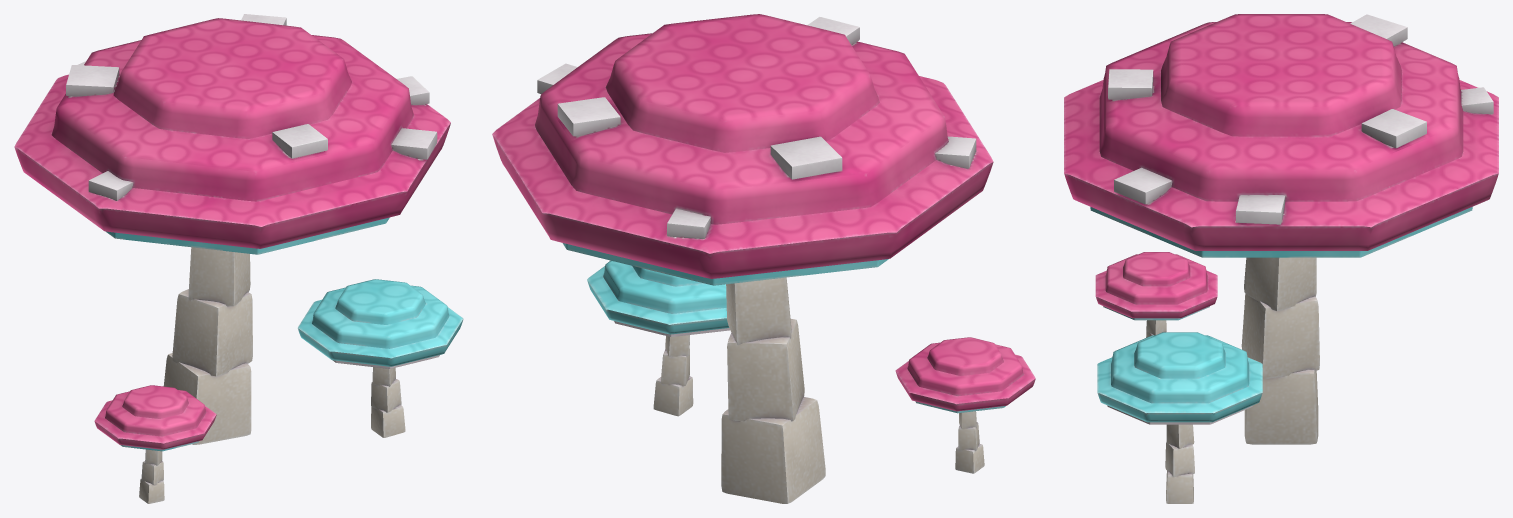
Rendered from ChampignonGeant.fbx.
The picture shows the model from 3 angles, left to right: view 1: azimuth 30°, elevation 25°; view 2: azimuth 150°, elevation 25°; view 3: azimuth 270°, elevation 25°; orthographic projection. The views are drawn at different scales.
Visible parts, largest first — view 1: ChampignonGeant; view 2: ChampignonGeant; view 3: ChampignonGeant.
Part boxes in pixels (box(x1,y1,x2,y2)): ChampignonGeant: box(14, 14, 463, 503); ChampignonGeant: box(492, 14, 1035, 503); ChampignonGeant: box(1064, 14, 1498, 503).
Bounding box in the file's own units: 1152 × 1090 × 1115.
Materials: 1 (1 with a texture image).
